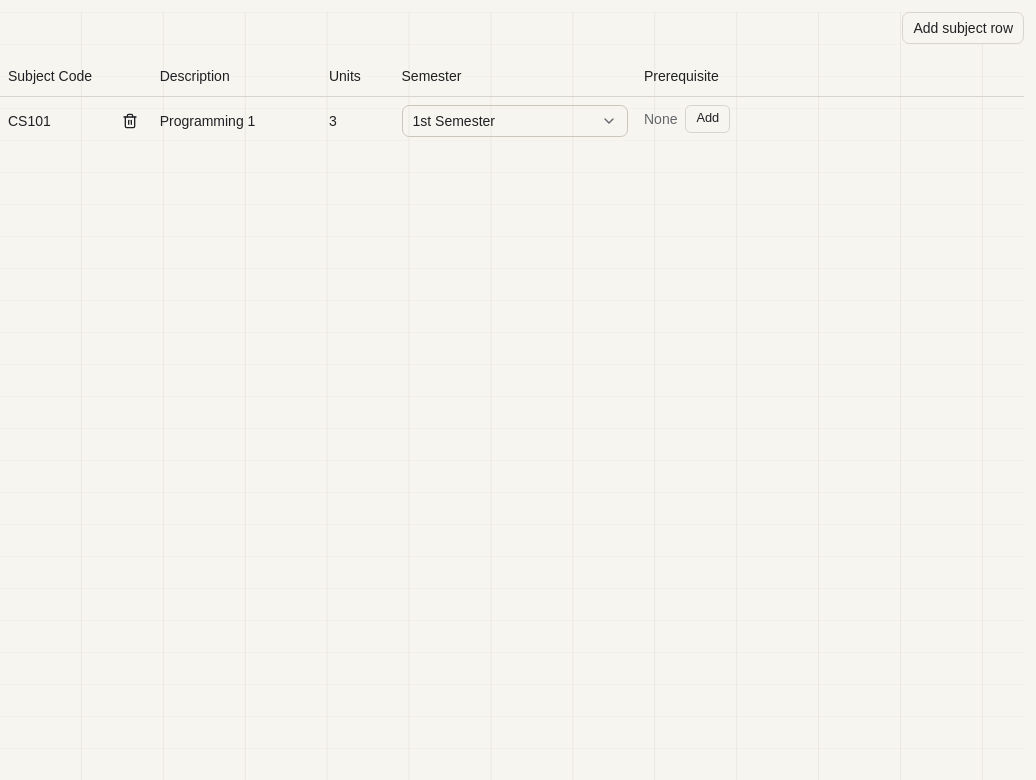
CurriculumSubjectSpreadsheet › stores the 1st and 2nd semester API values while showing full labels
Click the dropdown named "Semester for CS101" at coordinates (515, 120), box x1=402 y1=104 x2=628 y2=136
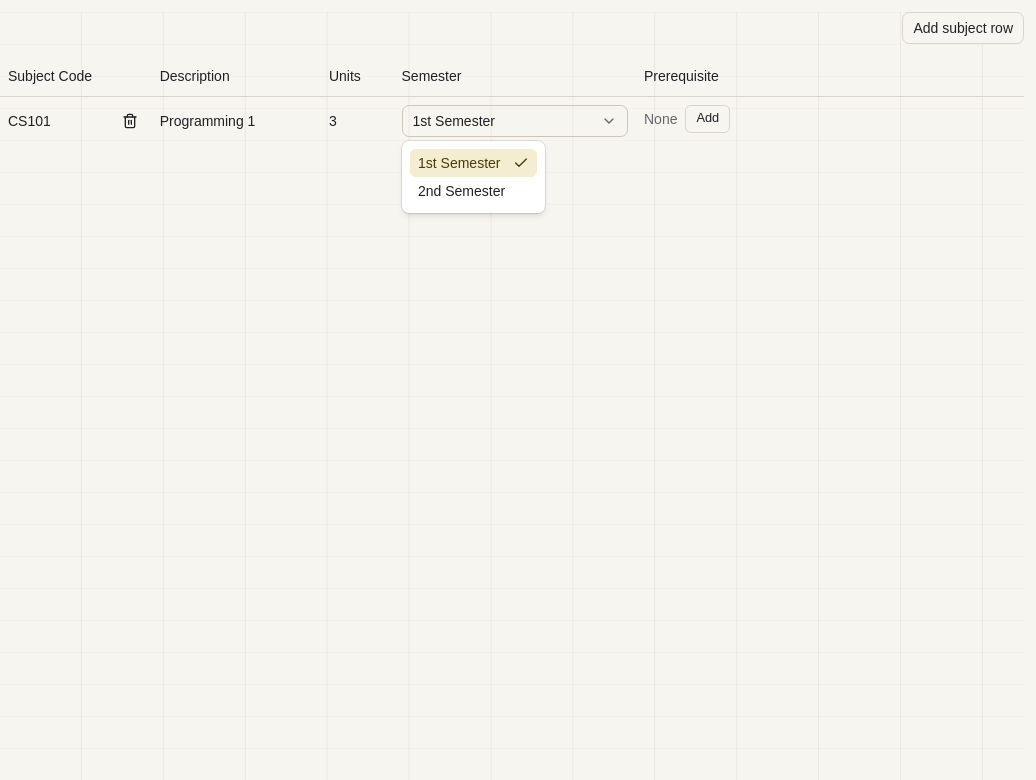
Click the option "2nd Semester" at coordinates (462, 191), box x1=418 y1=183 x2=505 y2=199
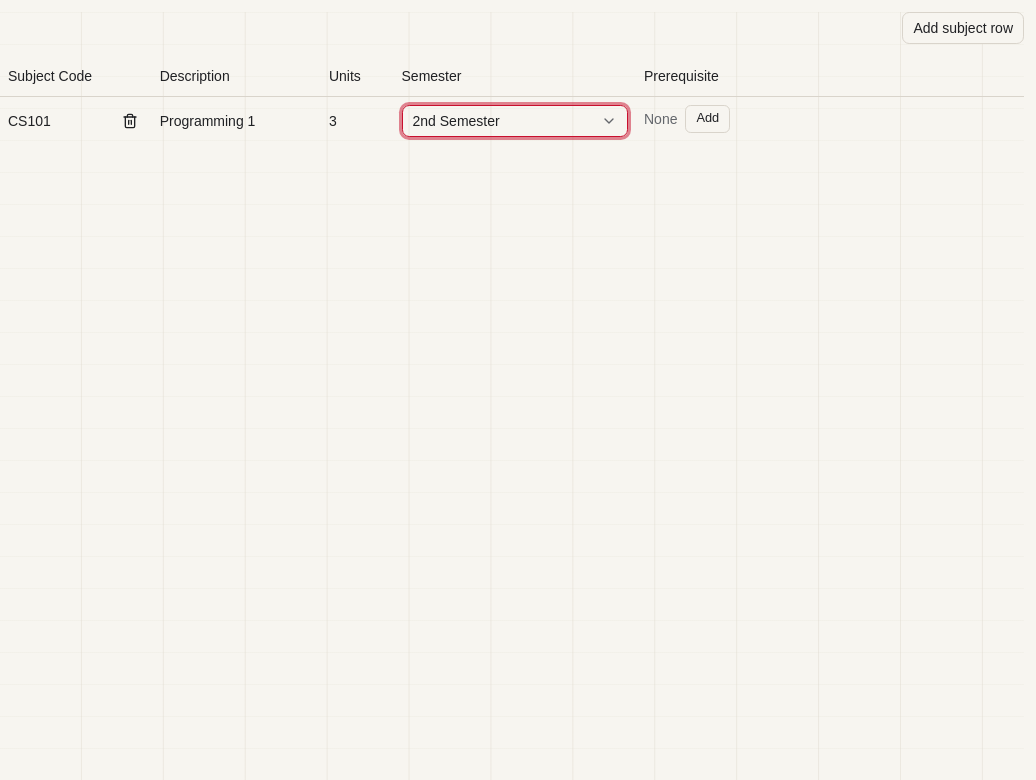
expect the dropdown named "Semester for CS101" reads "2nd Semester": met
Click the dropdown named "Semester for CS101" at coordinates (515, 120), box x1=402 y1=104 x2=628 y2=136
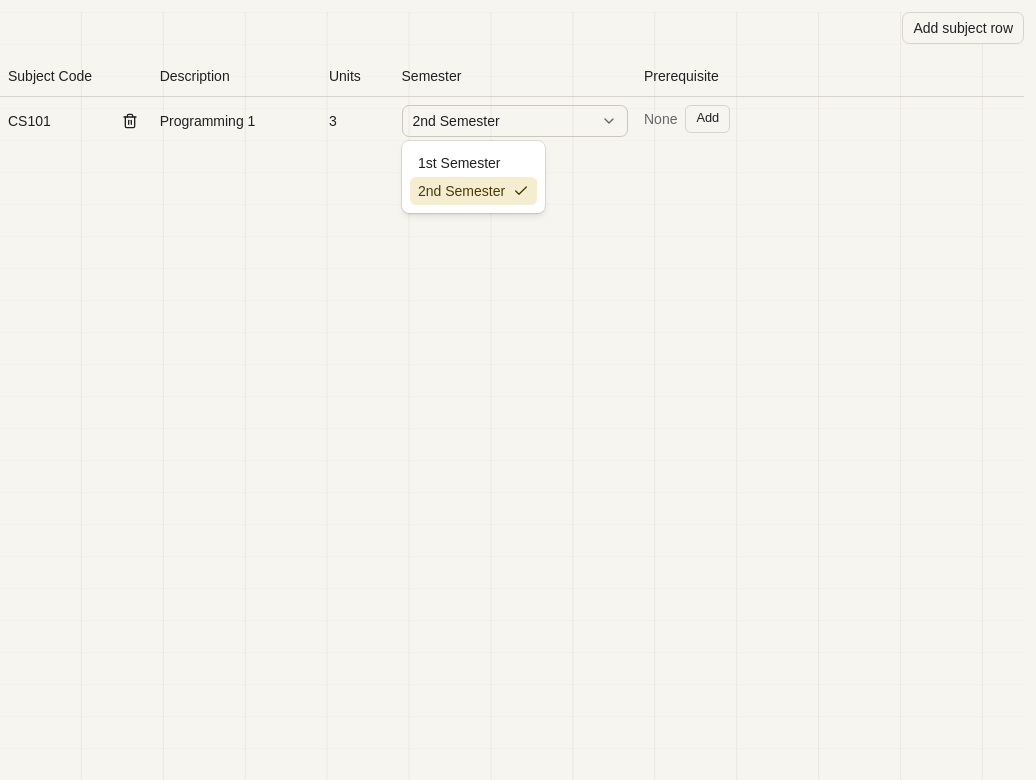
Click the option "1st Semester" at coordinates (459, 163), box x1=418 y1=155 x2=500 y2=171
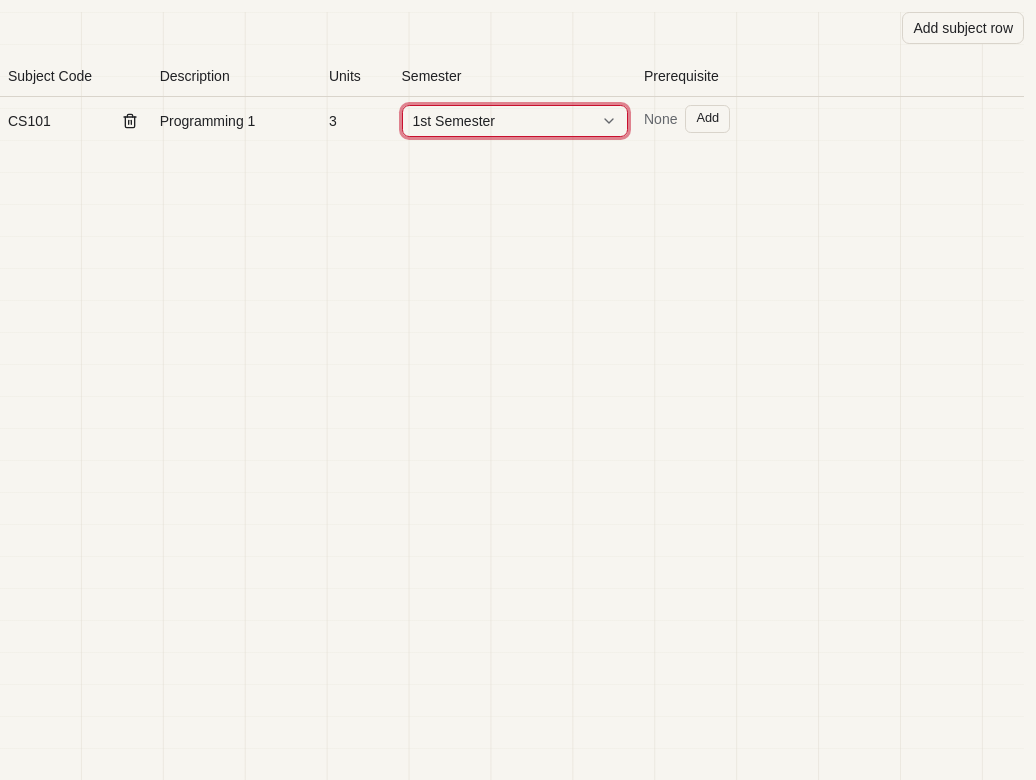
expect the dropdown named "Semester for CS101" reads "1st Semester": met, box x1=402 y1=104 x2=628 y2=136
